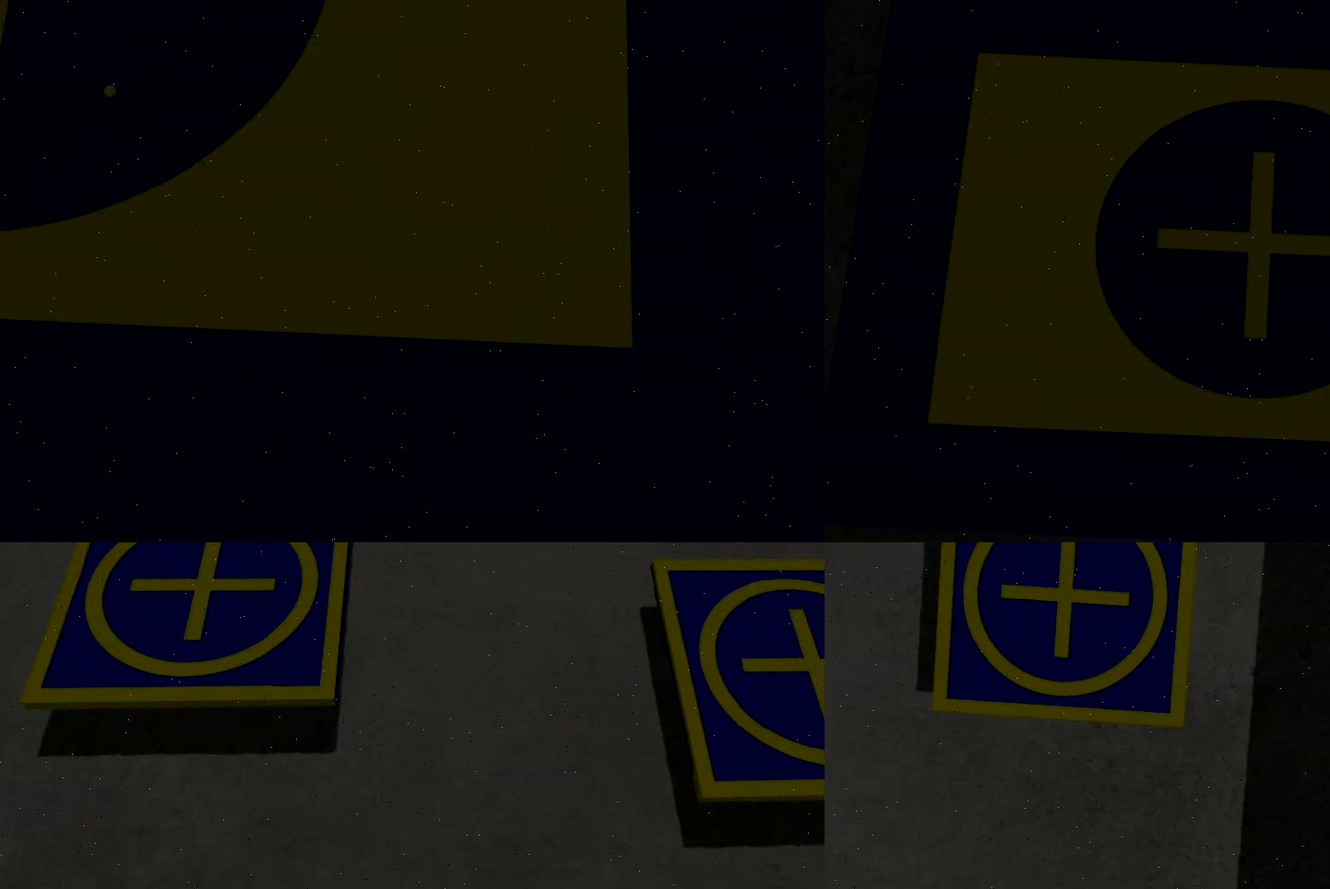large_base: (1, 1, 825, 542), (825, 1, 1330, 542)
small_base: (20, 542, 362, 735), (918, 542, 1210, 738), (630, 542, 825, 827)
